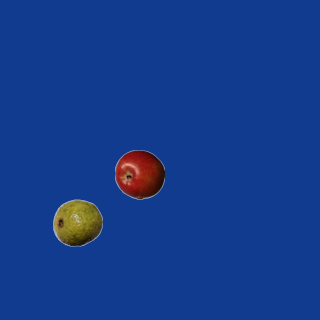Apple Braeburn: (114, 149, 164, 199)
Guava: (52, 197, 102, 247)
